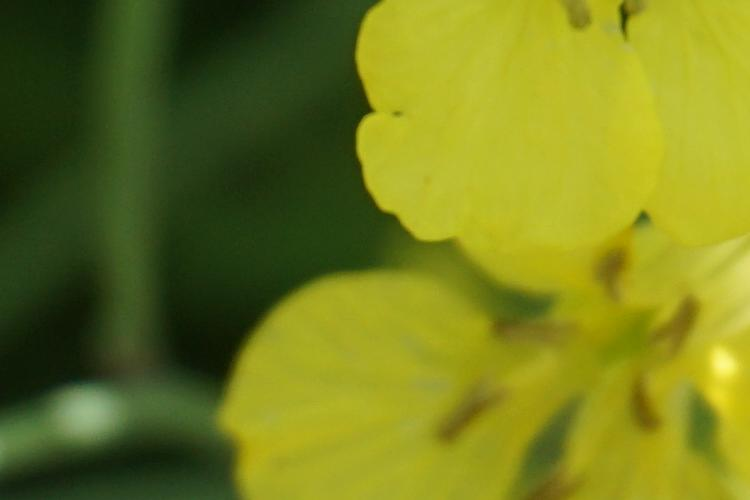yellow: (199, 251, 750, 497), (378, 22, 727, 270)
